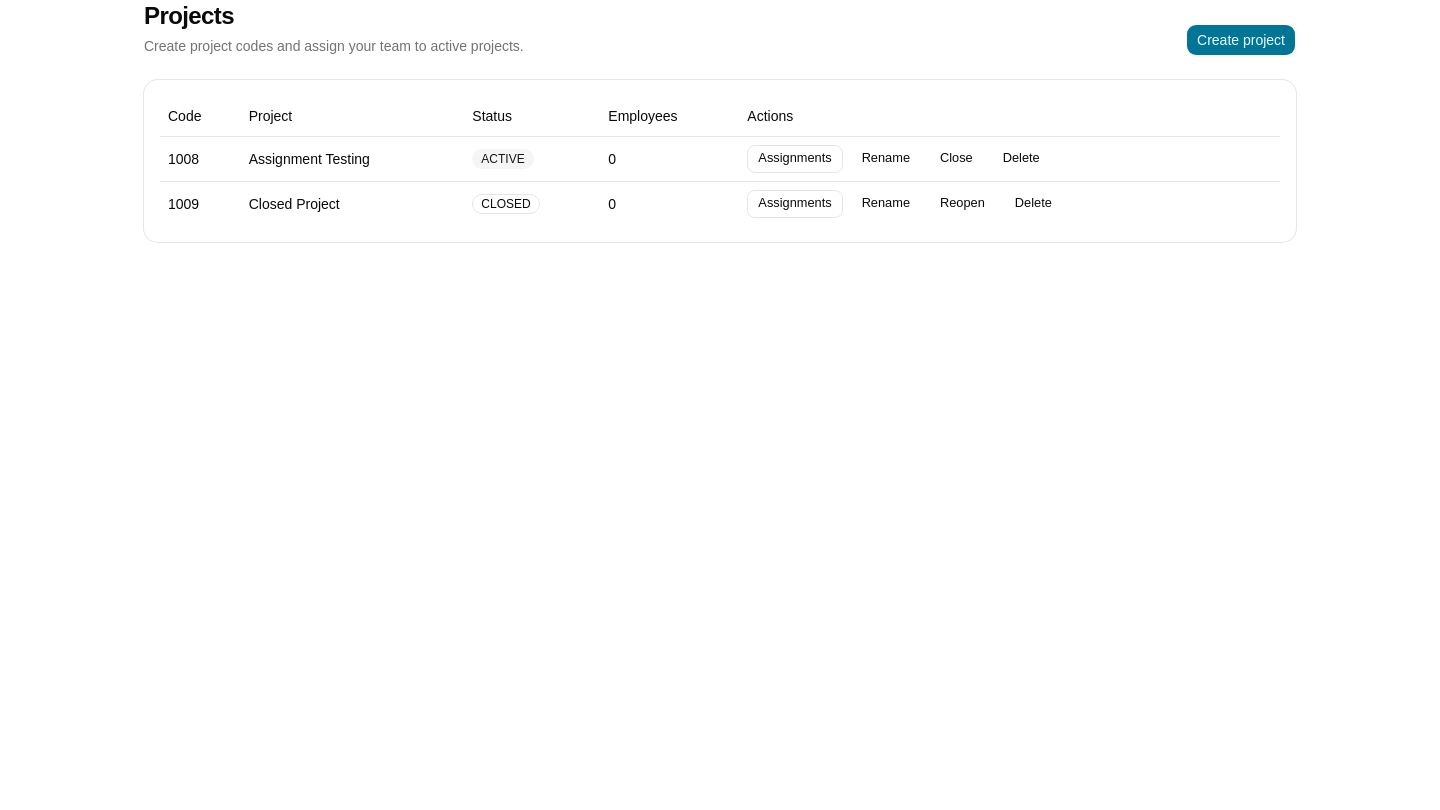
Test: excludes existing assignments with API employee ID 51
expect the text "Assignment Testing" is shown: met, box [241,136,464,181]
Click the button "Assignments" in the row of "1008": (795, 158) [747,144,843,172]
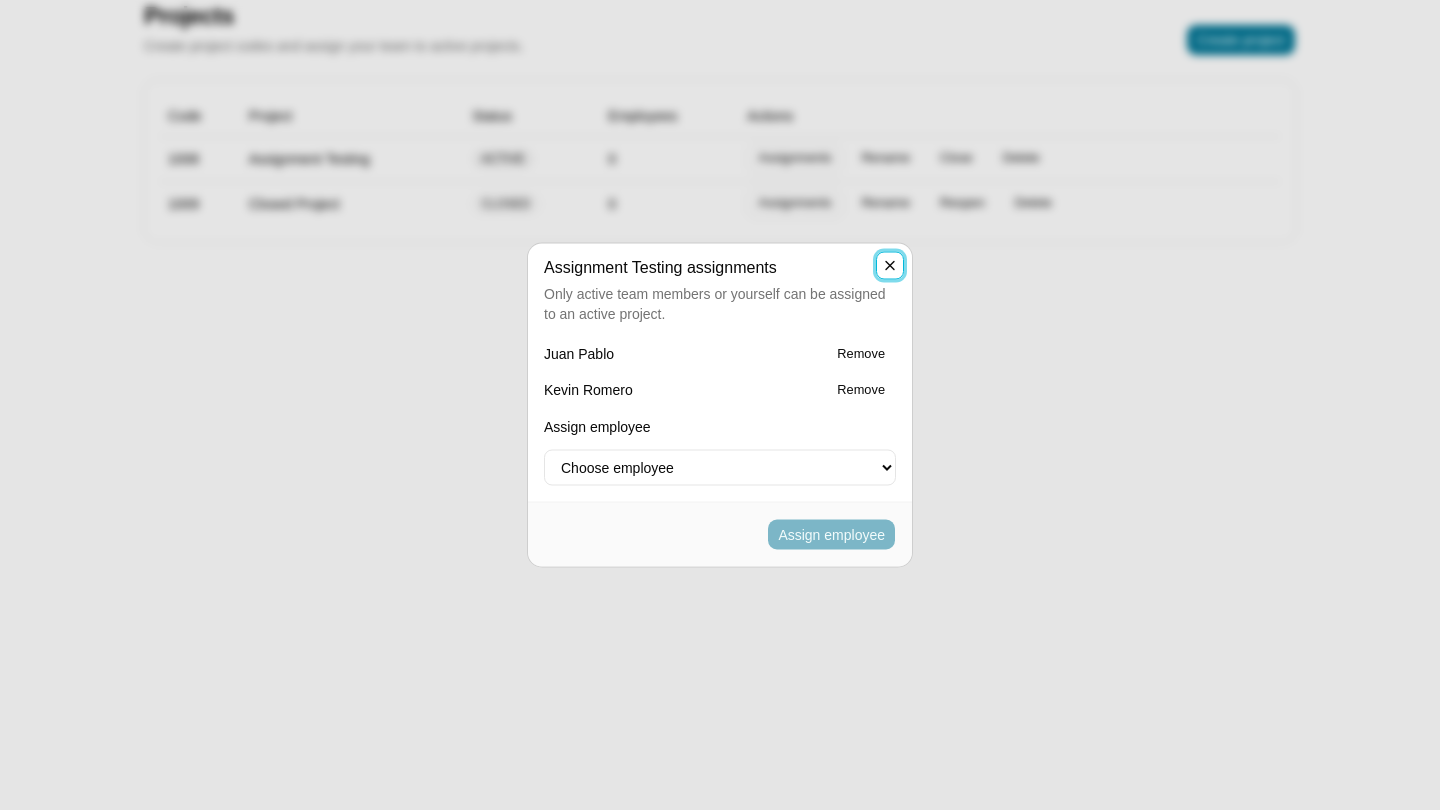
expect the text "Juan Pablo" is shown: met, box [544,344,614,364]
expect the text "Kevin Romero" is shown: met, box [544,380,633,400]
